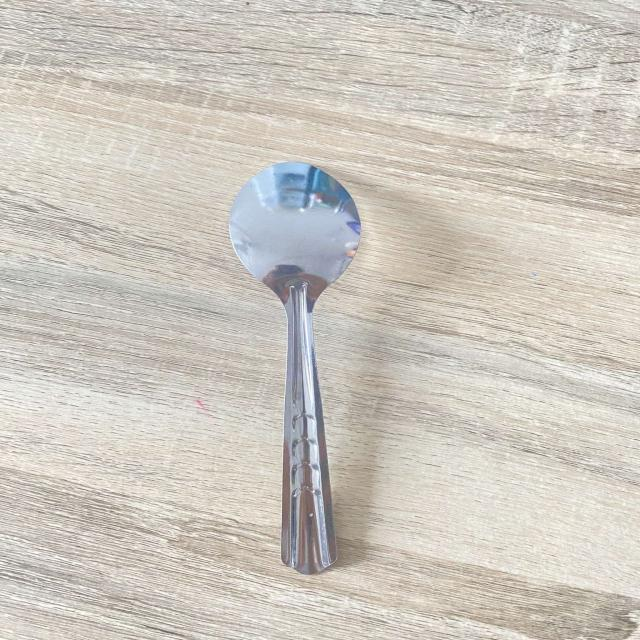spoon: (193, 154, 395, 577)
